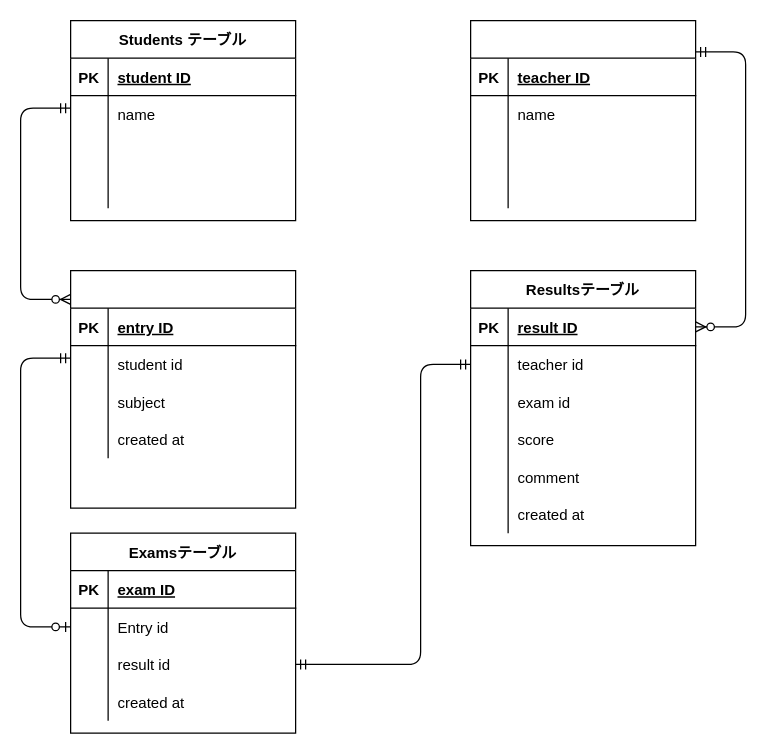
This 766x754 diagram has some shape labels left out. The box of each missing label's shape, as (x1, y1, x2, y2) in pixels:
Entriesテーブル: (69, 269, 296, 508)
Teachers テーブル: (469, 19, 696, 221)
